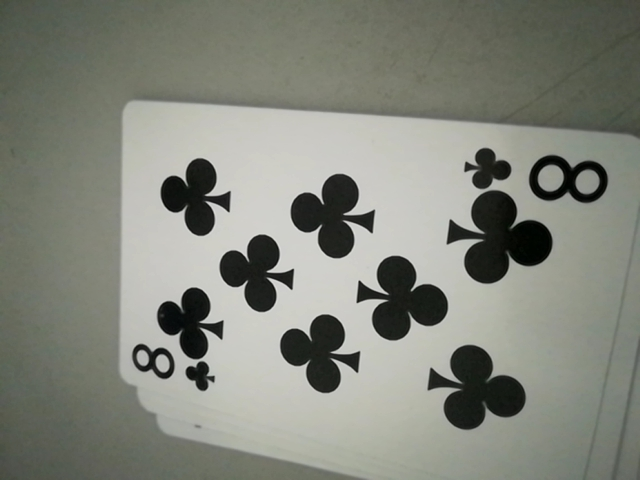mh 8: (462, 143, 608, 203), (126, 340, 213, 397)
